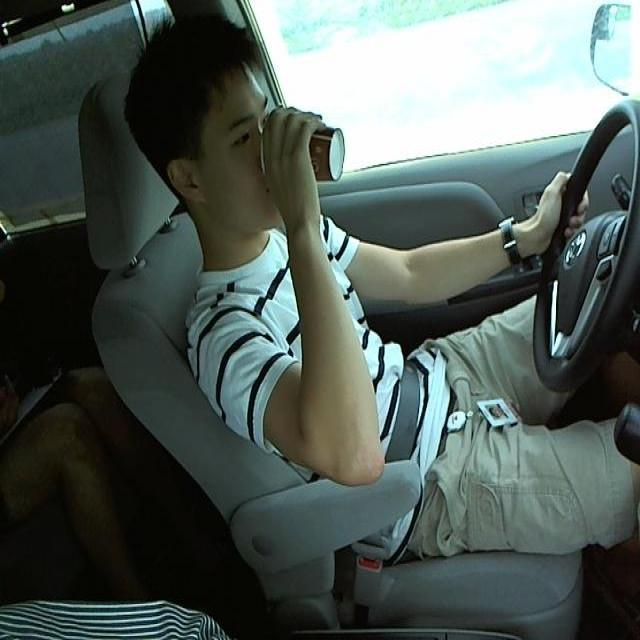drinking: (259, 106, 345, 182)
